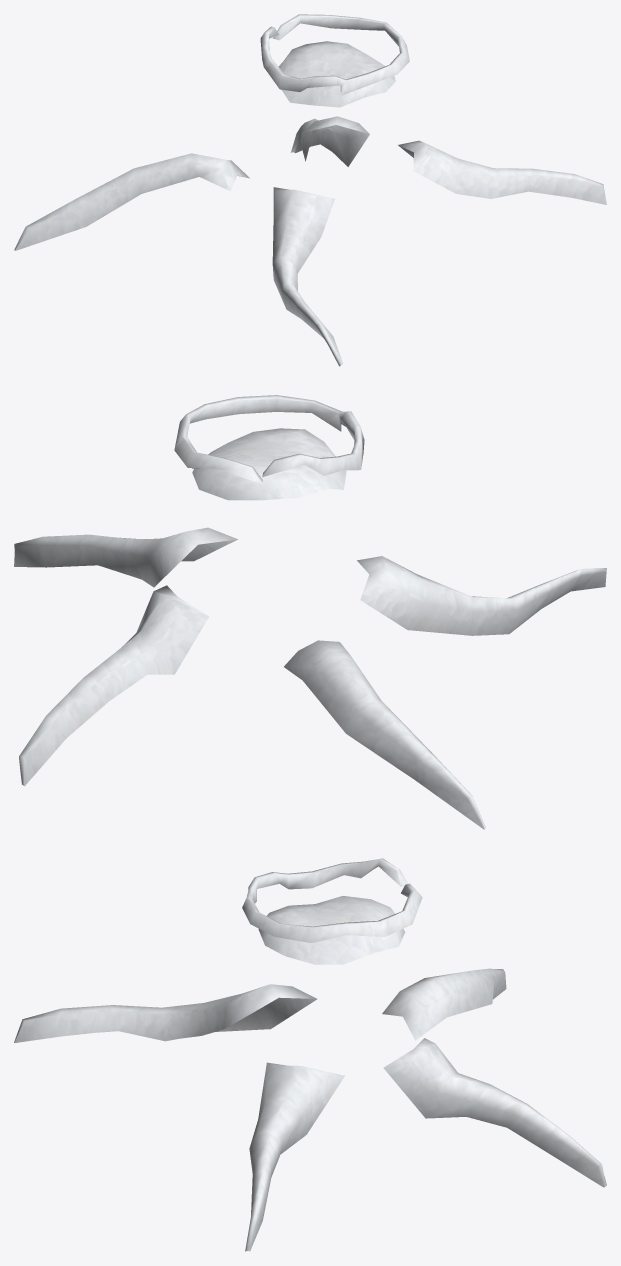
File: snow07.fbx
3 renders of one model, top to bottom at view 1: azimuth 30°, elevation 25°; view 2: azimuth 150°, elevation 25°; view 3: azimuth 270°, elevation 25°, orthographic. The views are drawn at different scales.
Parts seen in each view (by area): view 1: snow07; view 2: snow07; view 3: snow07.
Part boxes in pixels (x1,y1,x2,y2): snow07: (14, 14, 606, 366); snow07: (14, 395, 606, 829); snow07: (14, 858, 606, 1251).
Size of the model in its own units: 143 by 62.82 by 131.
